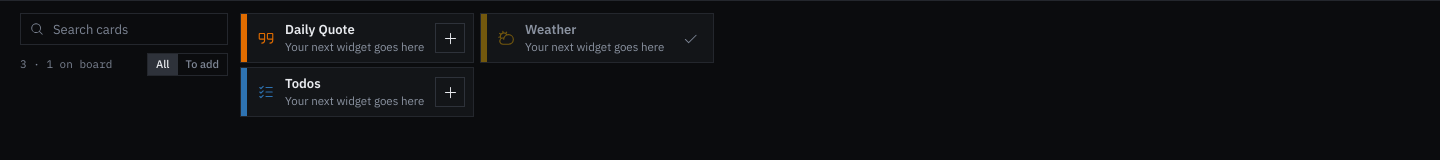
Test: search › clears with its own button
The image size is (1440, 160).
Type "zzz" into the search field labelled "Search cards" at x=124, y=29, box [20,13,228,45]
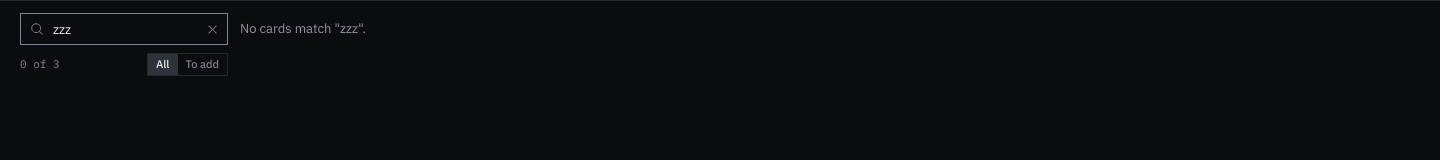
Click the button named "Clear search" at x=212, y=29, box [200,17,224,41]
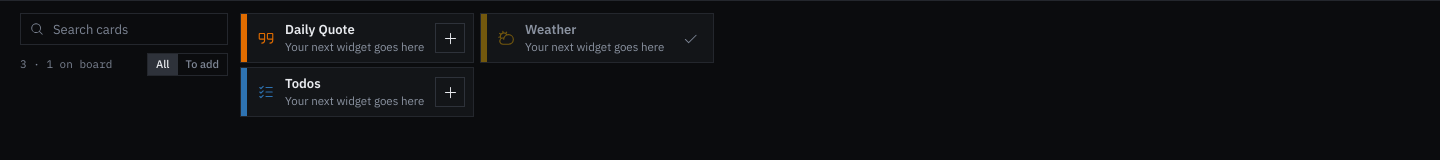
Now the search field labelled "Search cards" is empty, box [20,13,228,45]
Now the number of list items is 3, box [241,14,473,62]; [241,68,473,116]; [481,14,713,62]
